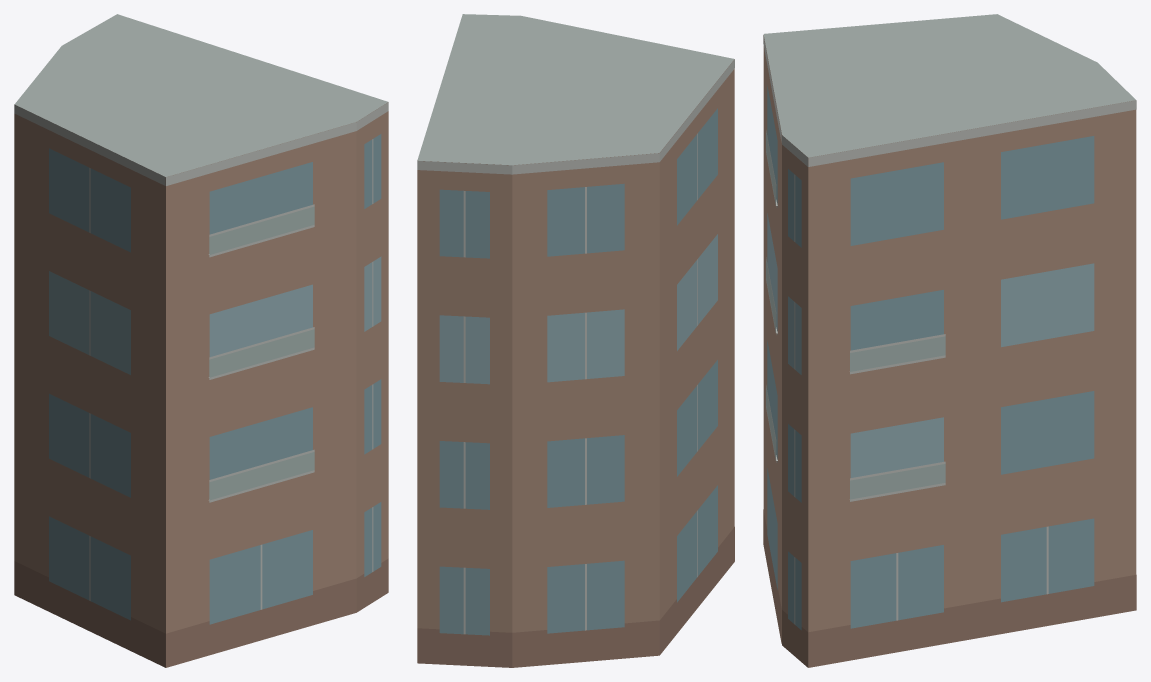
Rendered from survey-upis-33021610.glb.
The picture shows the model from 3 angles, left to right: view 1: azimuth 30°, elevation 25°; view 2: azimuth 150°, elevation 25°; view 3: azimuth 270°, elevation 25°; orthographic projection. The views are drawn at different scales.
Visible parts, largest first — view 1: survey-upis-33021610.tmp; view 2: survey-upis-33021610.tmp; view 3: survey-upis-33021610.tmp.
Boxes of the visible parts, bbox=[...] form: survey-upis-33021610.tmp: bbox=[14, 14, 388, 667]; survey-upis-33021610.tmp: bbox=[417, 14, 734, 667]; survey-upis-33021610.tmp: bbox=[763, 14, 1136, 667].
Size of the model in its own units: 7.98 by 13.2 by 8.76.
